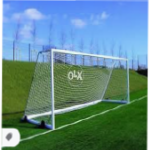goals: (22, 47, 132, 129)
